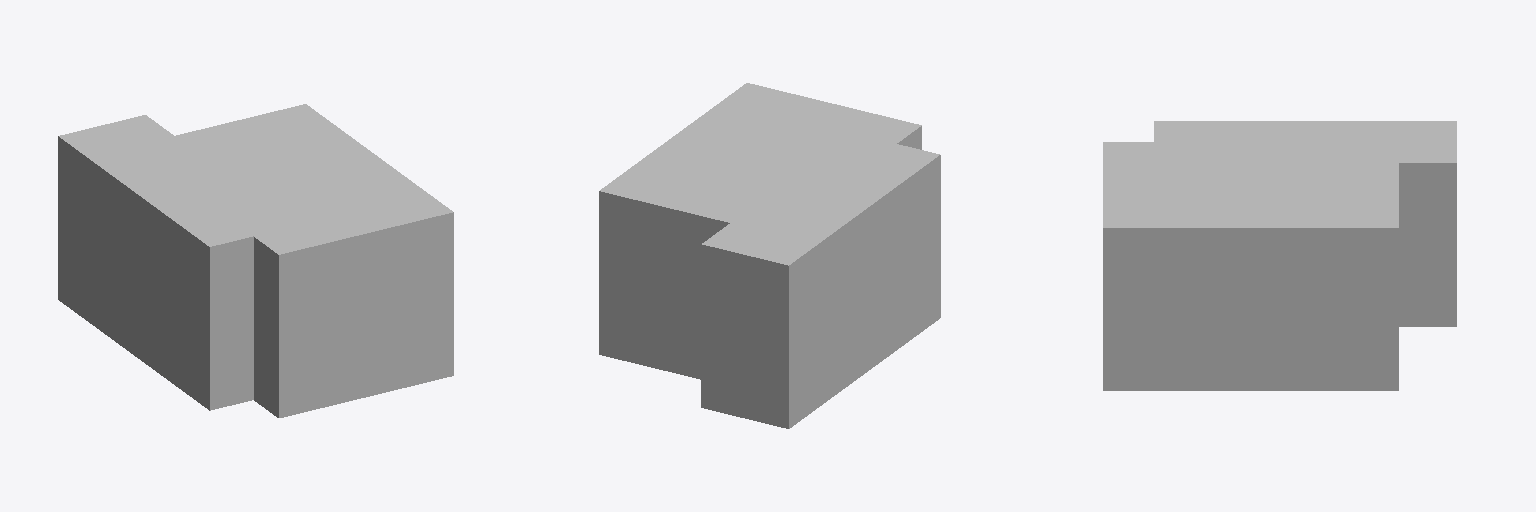
The model's file is RoomWalls.obj.
The picture shows the model from 3 angles: view 1: azimuth 30°, elevation 25°; view 2: azimuth 150°, elevation 25°; view 3: azimuth 270°, elevation 25°; orthographic projection.
Size of the model in its own units: 3.5 by 2.5 by 4.9.